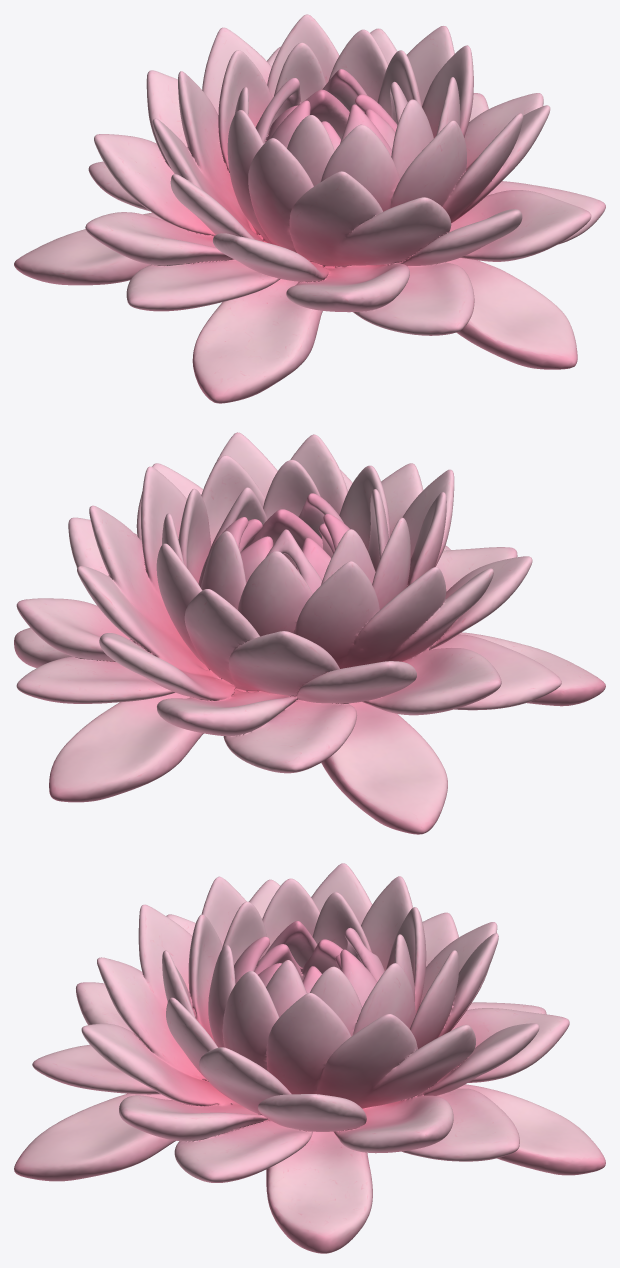
The model's file is 04_lotus_symtrellis.glb.
3 renders of one model, top to bottom at view 1: azimuth 30°, elevation 25°; view 2: azimuth 150°, elevation 25°; view 3: azimuth 270°, elevation 25°, orthographic. The views are drawn at different scales.
Visible parts, largest first — view 1: world; view 2: world; view 3: world.
Boxes of the visible parts, x1,y1,x2,y2 form: world: (14, 14, 605, 403); world: (14, 432, 605, 834); world: (14, 863, 605, 1253).
Size of the model in its own units: 0.9577 by 0.3842 by 1.
Materials: 1 (1 with a texture image).
